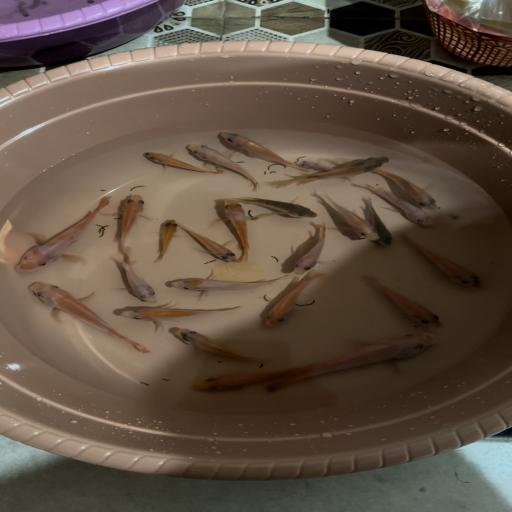nila: (14, 279, 152, 355), (284, 332, 442, 394), (8, 194, 116, 274), (394, 232, 488, 294), (360, 272, 447, 330), (272, 152, 390, 190), (254, 269, 327, 330), (192, 362, 320, 395), (170, 326, 274, 366), (216, 129, 305, 174), (354, 182, 437, 228), (181, 142, 260, 190), (370, 166, 450, 210), (117, 298, 252, 324), (106, 192, 156, 260), (280, 218, 339, 275), (320, 188, 378, 244), (216, 197, 262, 262), (238, 189, 323, 222), (160, 271, 288, 292), (130, 150, 224, 177), (357, 194, 402, 249), (112, 255, 160, 303), (181, 225, 236, 265), (153, 213, 179, 262), (296, 159, 342, 175)
